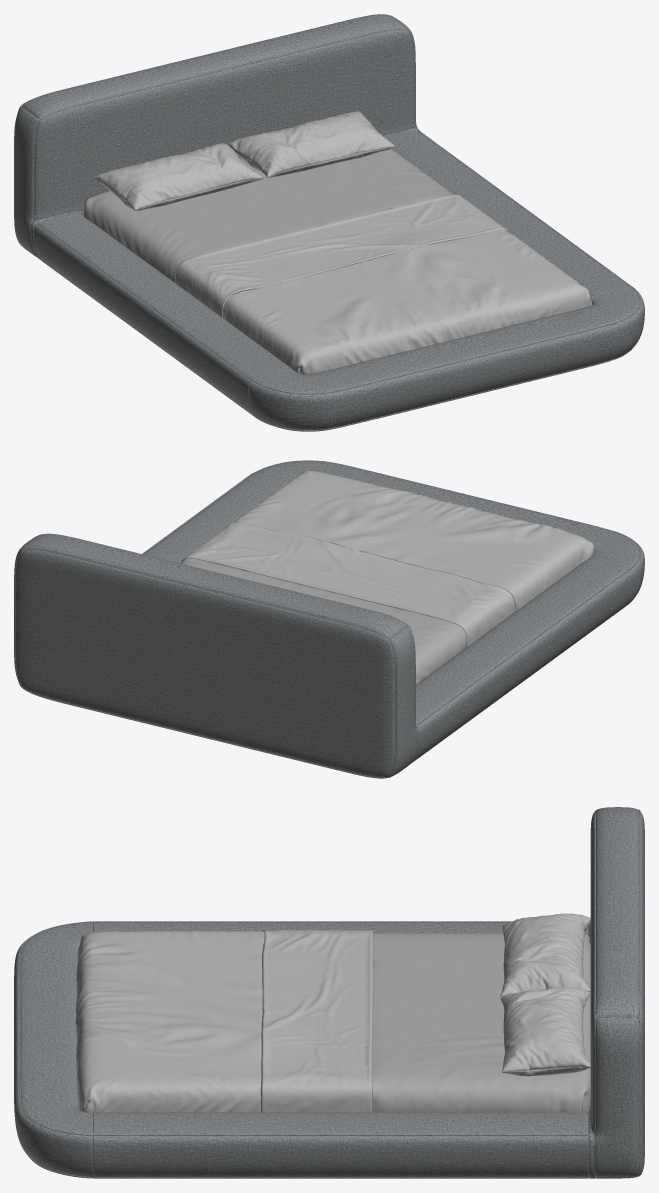
Rendered from bed-transformed.glb.
The picture shows the model from 3 angles, top to bottom: view 1: azimuth 30°, elevation 25°; view 2: azimuth 150°, elevation 25°; view 3: azimuth 270°, elevation 25°; orthographic projection. The views are drawn at different scales.
Parts seen in each view (by area): view 1: bed, blanket, mattres, pillow, piping; view 2: bed, blanket, mattres, piping; view 3: bed, blanket, mattres, pillow, piping.
Part boxes in pixels (<box>): bed: <box>14,14,644,431</box>; blanket: <box>175,194,591,374</box>; mattres: <box>83,149,453,282</box>; pillow: <box>94,111,394,210</box>; piping: <box>17,20,640,431</box>; bed: <box>14,461,644,778</box>; blanket: <box>180,470,594,646</box>; mattres: <box>180,558,466,684</box>; piping: <box>14,460,640,778</box>; bed: <box>14,807,644,1178</box>; blanket: <box>75,929,373,1112</box>; mattres: <box>372,933,590,1112</box>; pillow: <box>500,913,590,1076</box>; piping: <box>19,809,640,1178</box>.
Size of the model in its own units: 2.09 by 0.7991 by 2.54.
4 materials, 4 textured.
